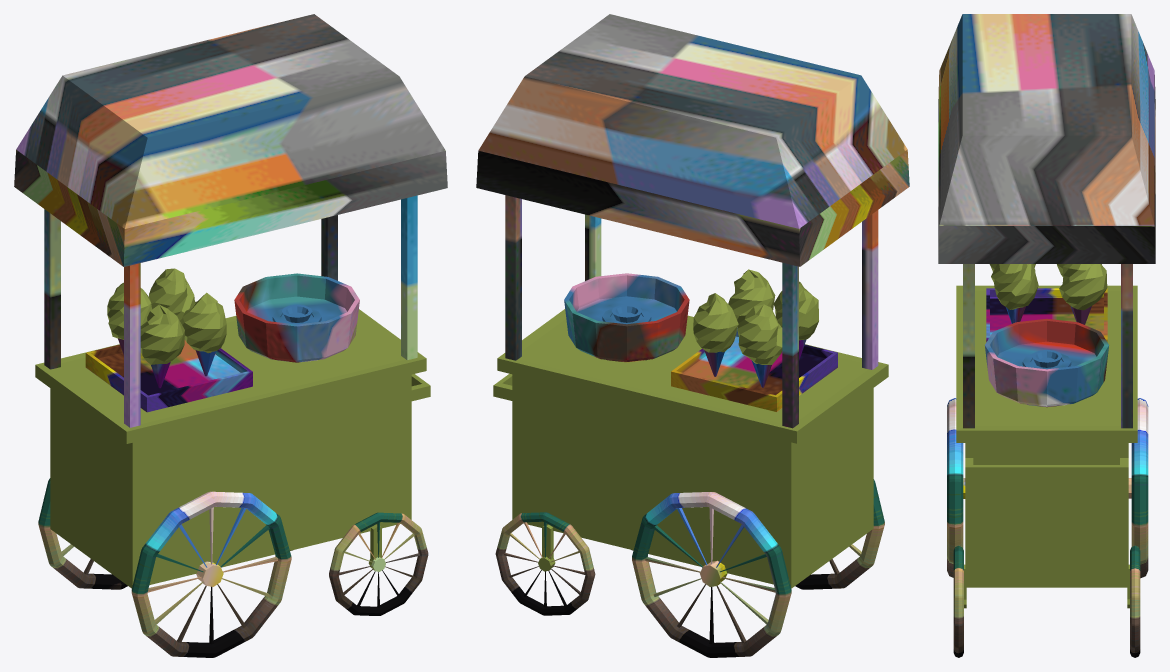
The model's file is CandyCart.fbx.
3 views of the same model, side by side, from view 1: azimuth 30°, elevation 25°; view 2: azimuth 150°, elevation 25°; view 3: azimuth 270°, elevation 25° (orthographic).
Visible parts, largest first — view 1: CandyCart; view 2: CandyCart; view 3: CandyCart.
Boxes of the visible parts, <box> form: CandyCart: <box>14,14,447,657</box>; CandyCart: <box>476,14,909,657</box>; CandyCart: <box>938,14,1155,657</box>.
Bounding box in the file's own units: 139 × 219 × 81.65.
1 material, 1 textured.
